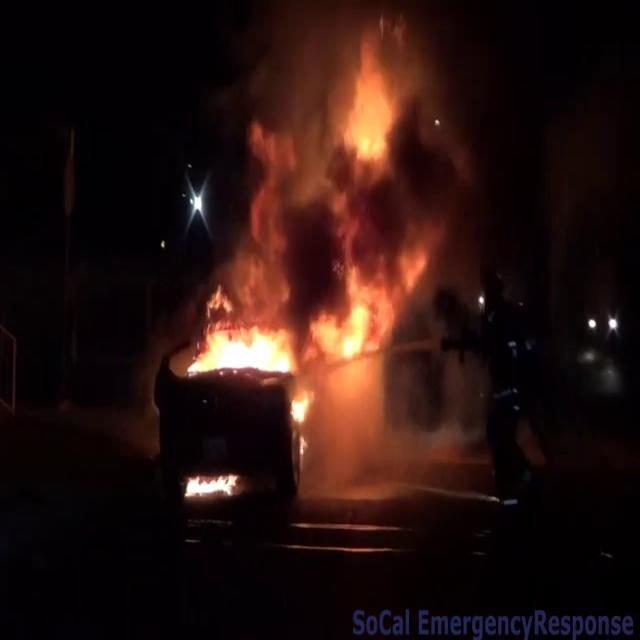Fire: (192, 35, 481, 392), (185, 314, 293, 385), (181, 464, 243, 504)
